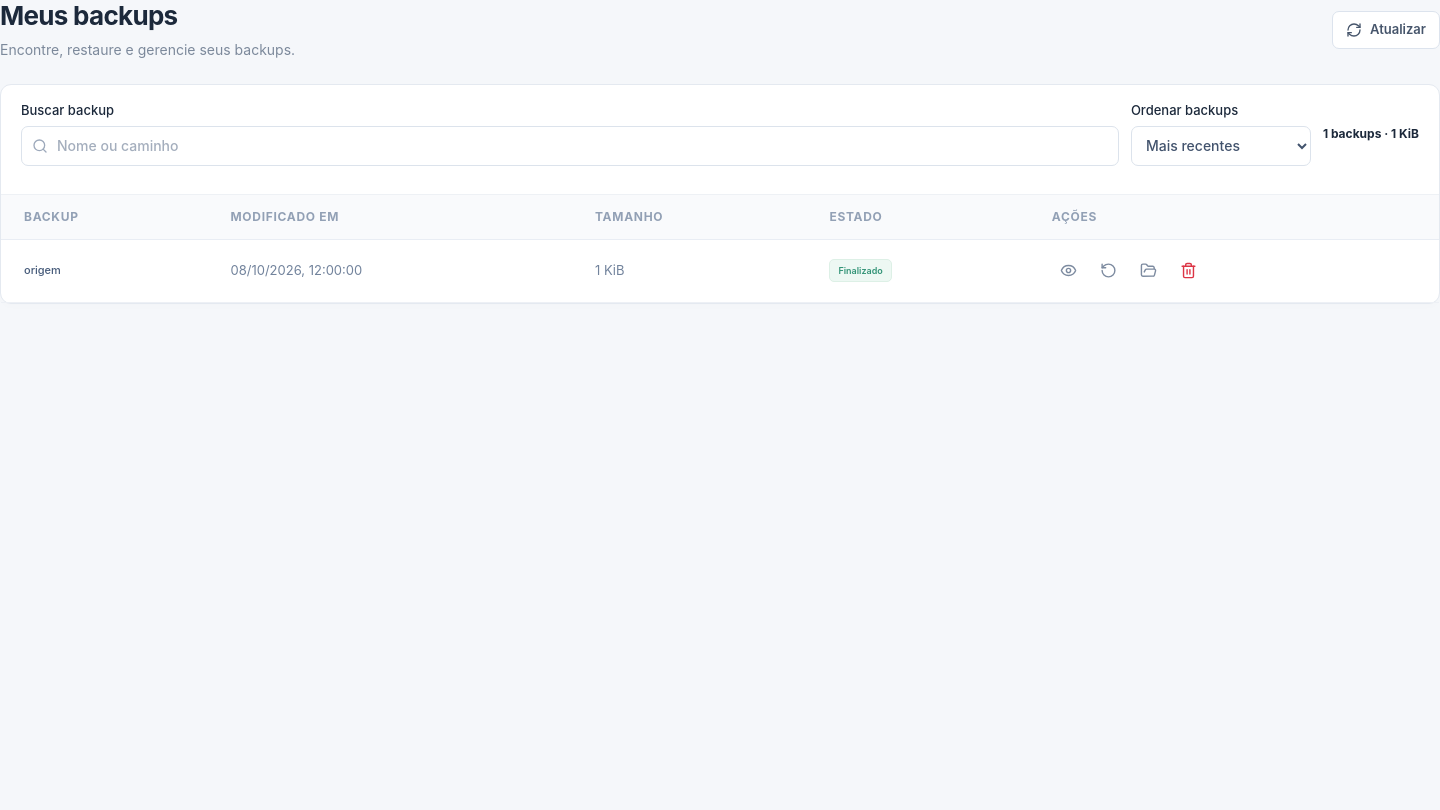
Test: gestão dos backups › exige confirmação, permite cancelar e atualiza o catálogo somente após excluir
What coordinates should you click on to do the following:
click the button named "Excluir origem"
I would click on:
 (1189, 271)
Its box is [1172,254,1206,288].
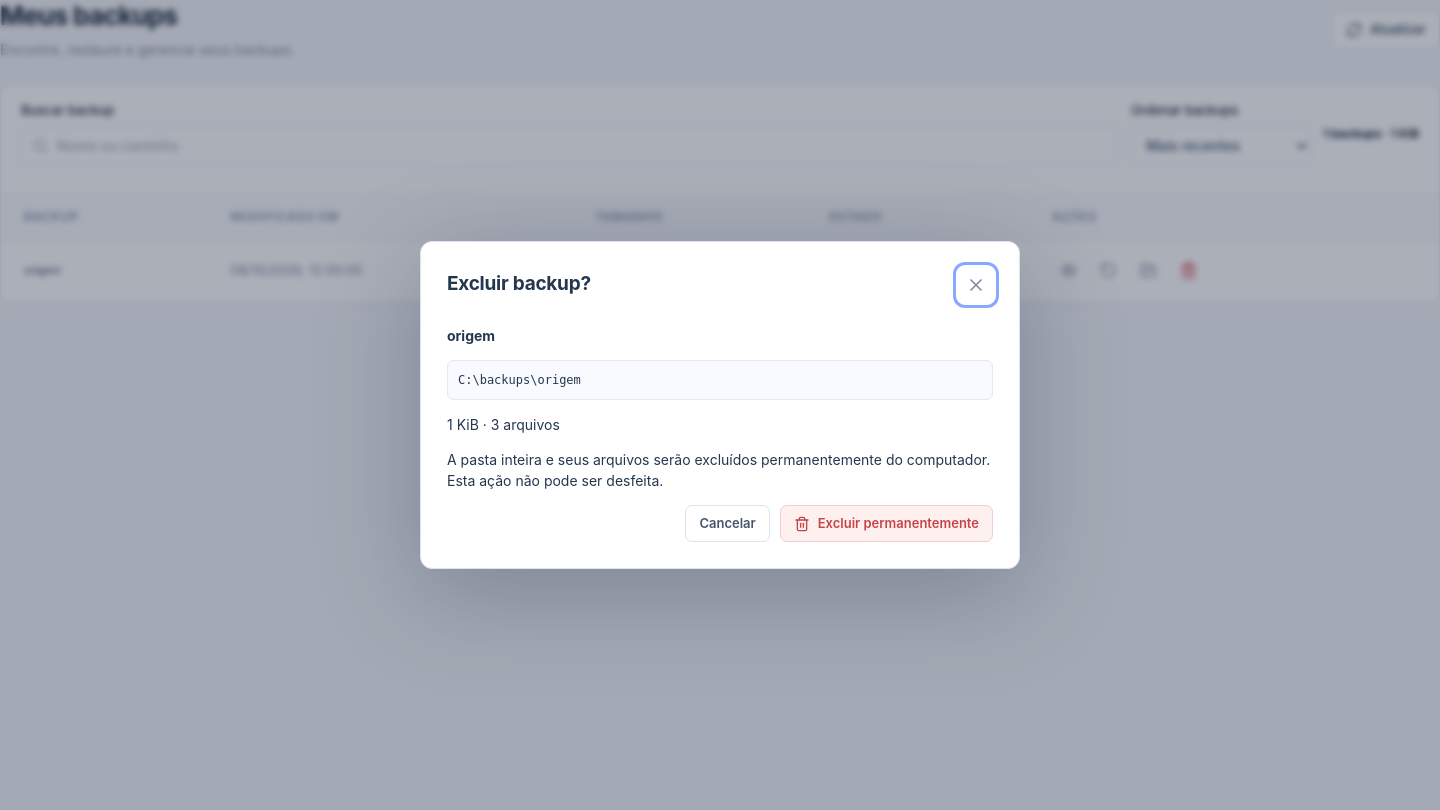
What coordinates should you click on to do the following:
click the button "Cancelar"
I would click on:
 (728, 524)
Its box is [685,505,770,542].
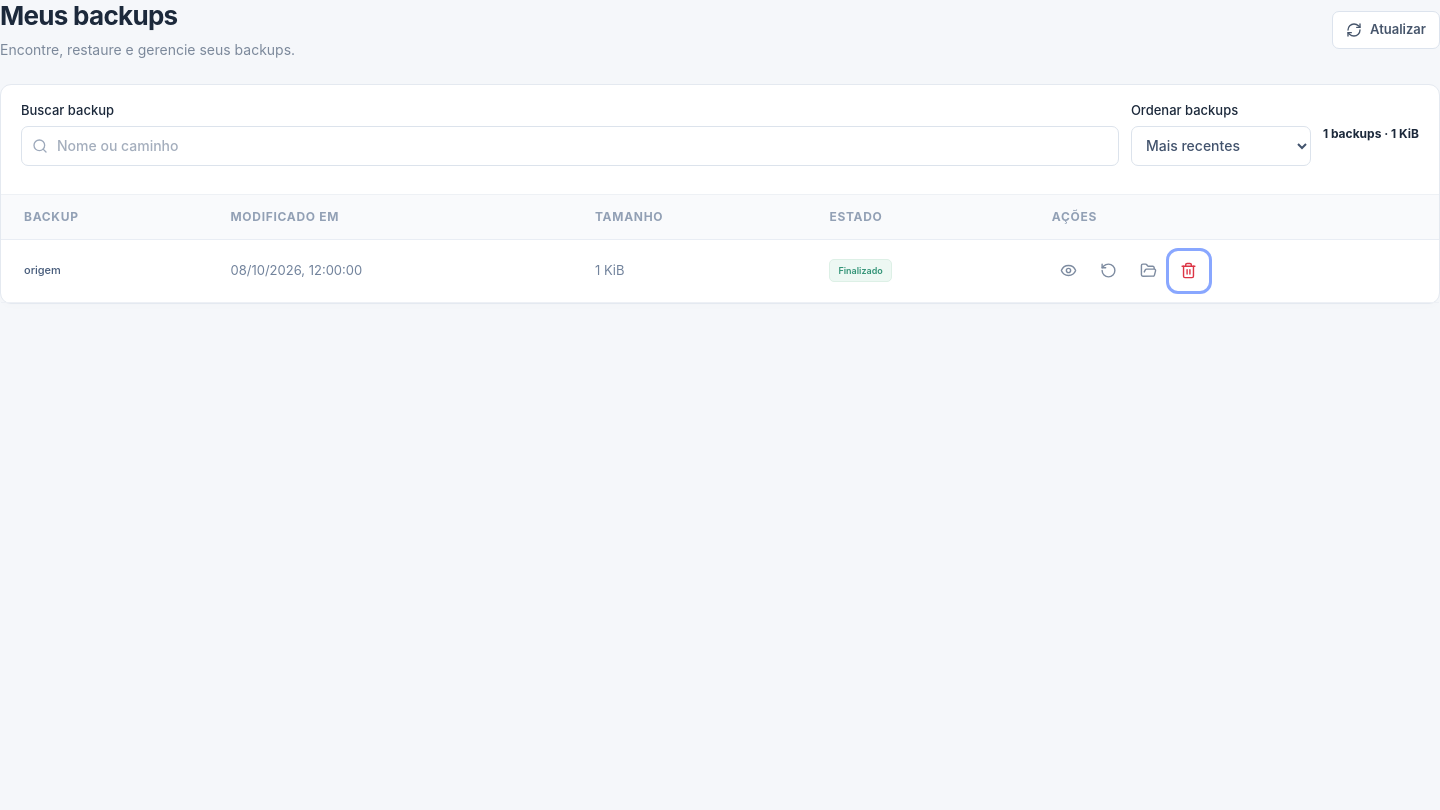
Expected: the dialog is gone
What coordinates should you click on to do the following:
click the button named "Excluir origem"
I would click on:
 (1189, 271)
Its box is [1172,254,1206,288].
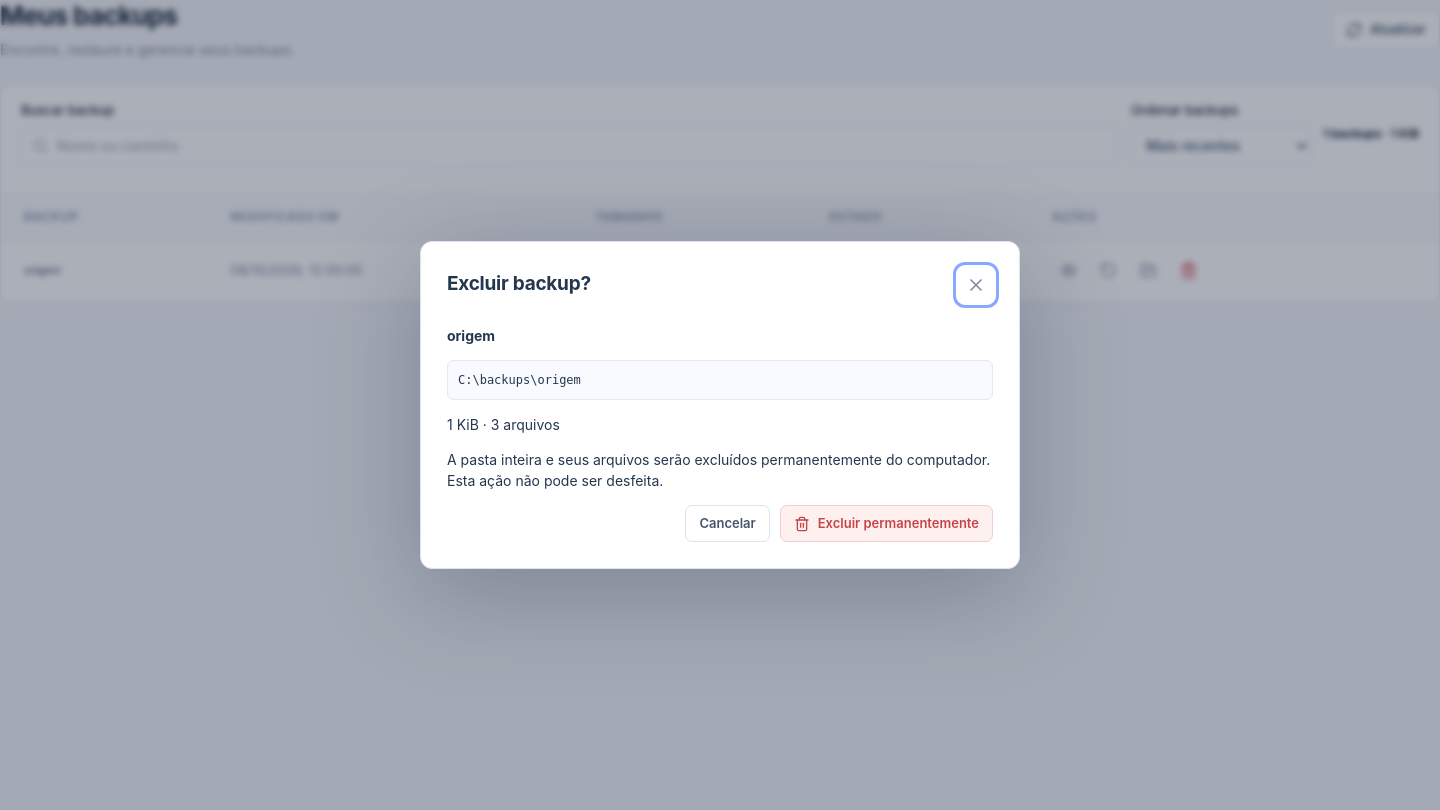
What coordinates should you click on to do the following:
click the button "Excluir permanentemente"
I would click on:
 (886, 524)
Its box is [780,505,993,542].
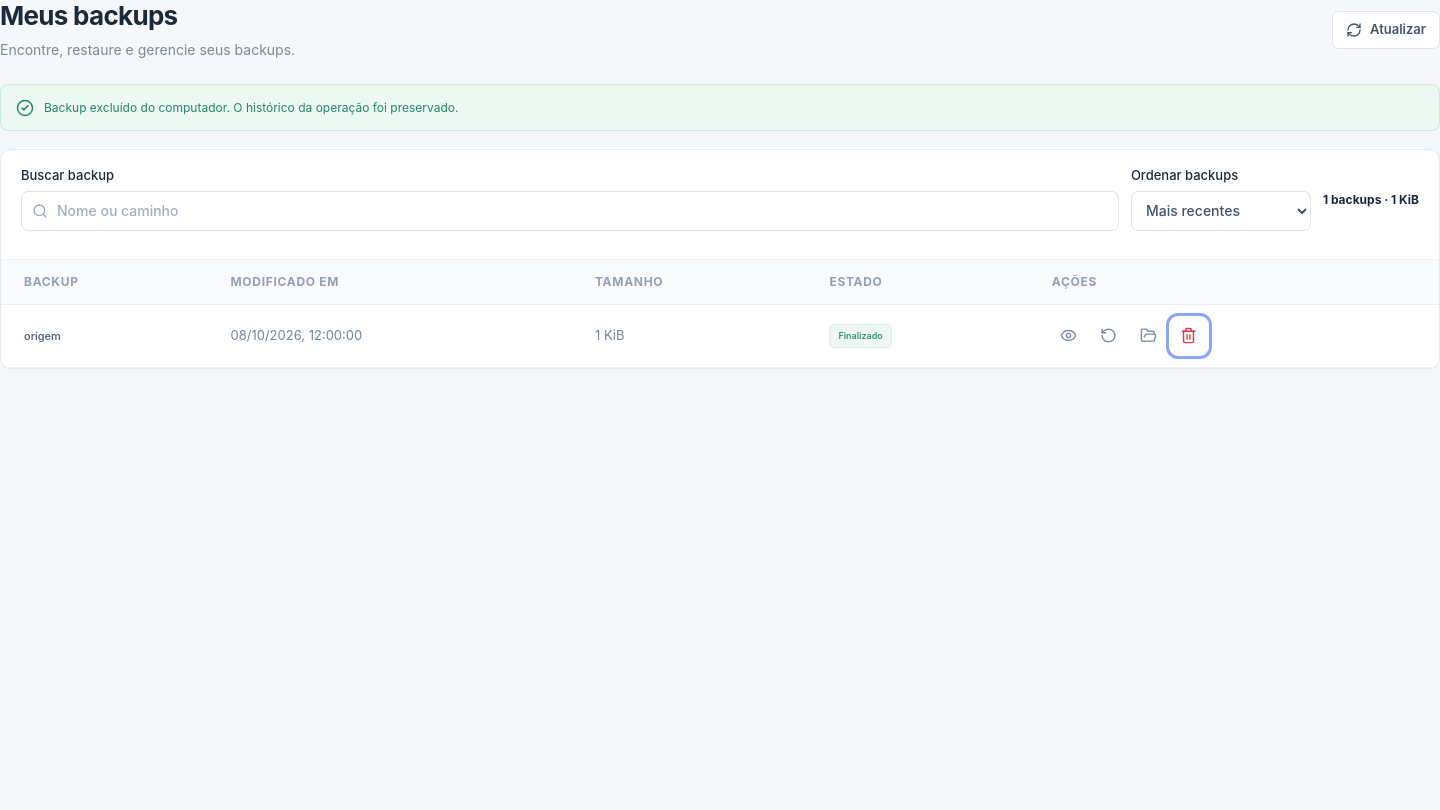
Expected: the dialog is gone
Expected: the message shows "Backup excluído", [44,100,458,115]
